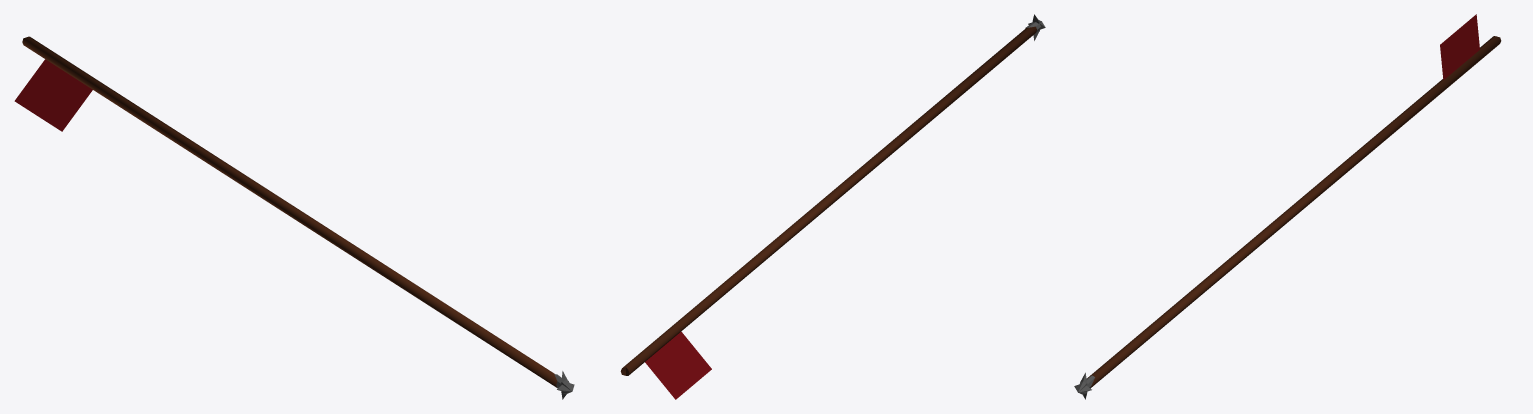
Rendered from recurve_bow_arrow2.fbx.
3 renders of one model, left to right at view 1: azimuth 30°, elevation 25°; view 2: azimuth 150°, elevation 25°; view 3: azimuth 330°, elevation 25°, orthographic. The views are drawn at different scales.
Parts seen in each view (by area): view 1: Arrowhead; view 2: Arrowhead; view 3: Arrowhead.
Boxes of the visible parts, box(x1,y1,x2,y2) form: Arrowhead: box(14, 36, 574, 399); Arrowhead: box(620, 14, 1045, 399); Arrowhead: box(1074, 14, 1501, 399).
Size of the model in its own units: 40.45 by 33.13 by 378.
